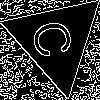C: (31, 16, 83, 61)
